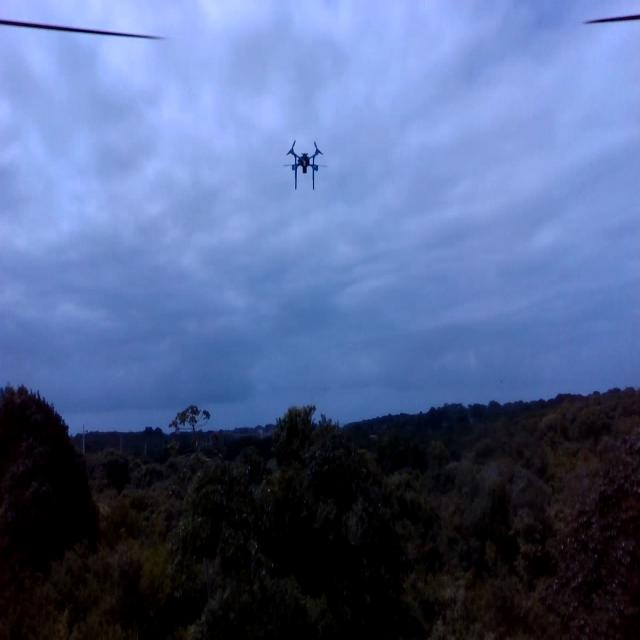-uav-: (280, 134, 330, 199)
